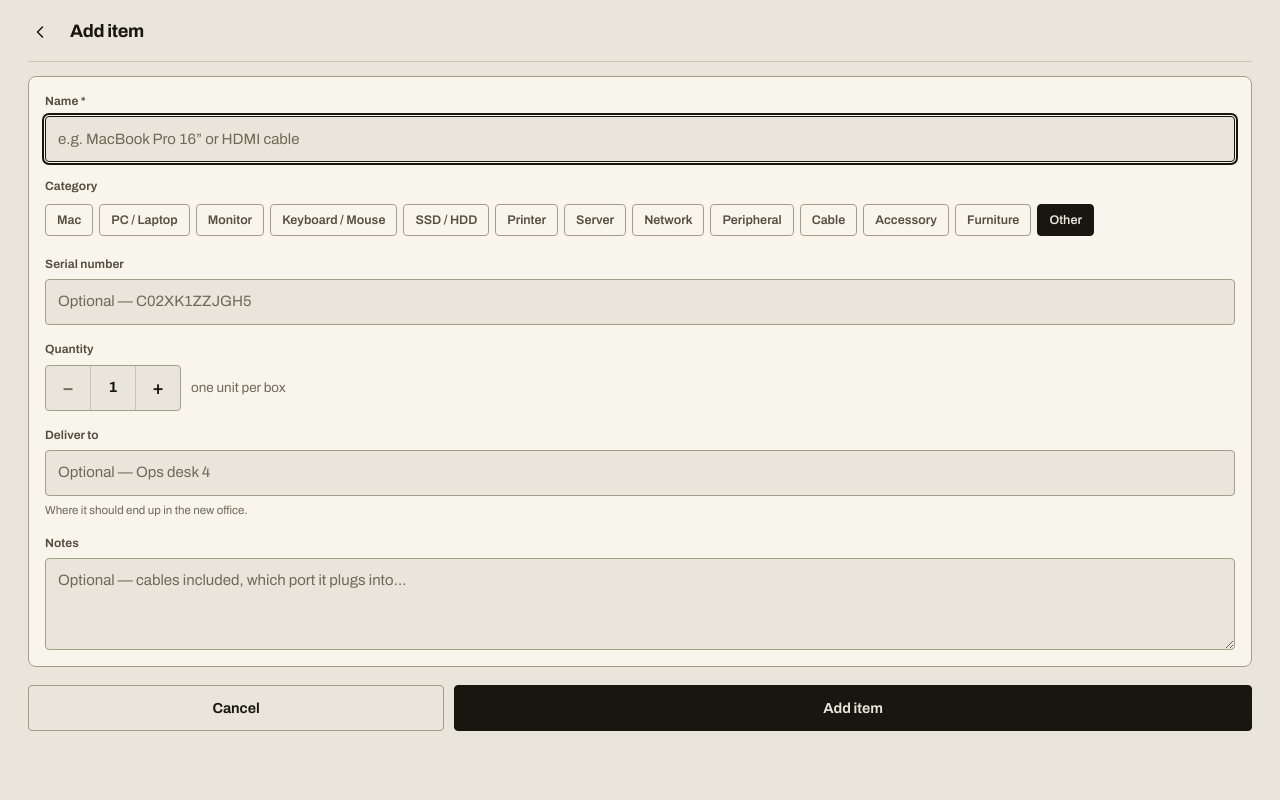
Test: ItemForm › requires a name
Click the button "Add item".
click(853, 708)  # box [454, 685, 1252, 731]
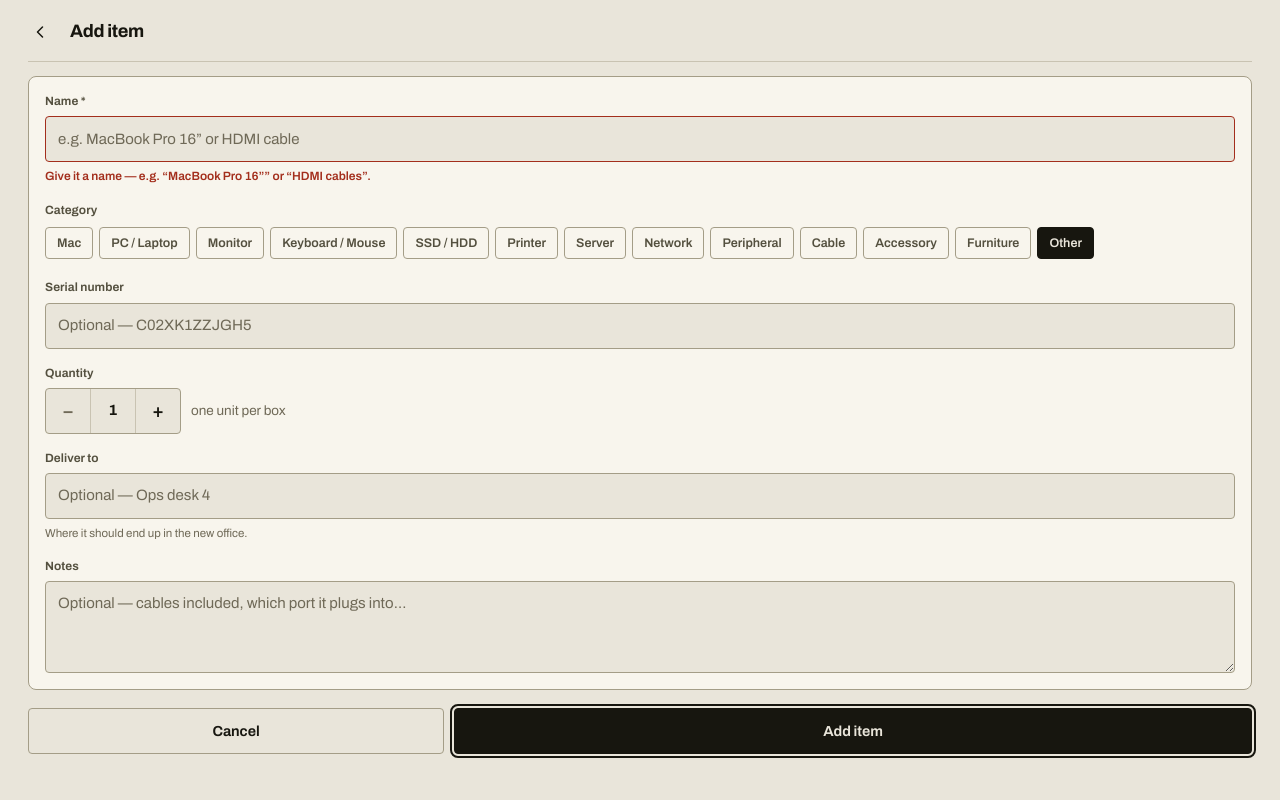
Check: the text "Give it a name — e.g. “MacBook Pro 16”” or “HDMI cables”." is shown, box [45, 169, 371, 183]
